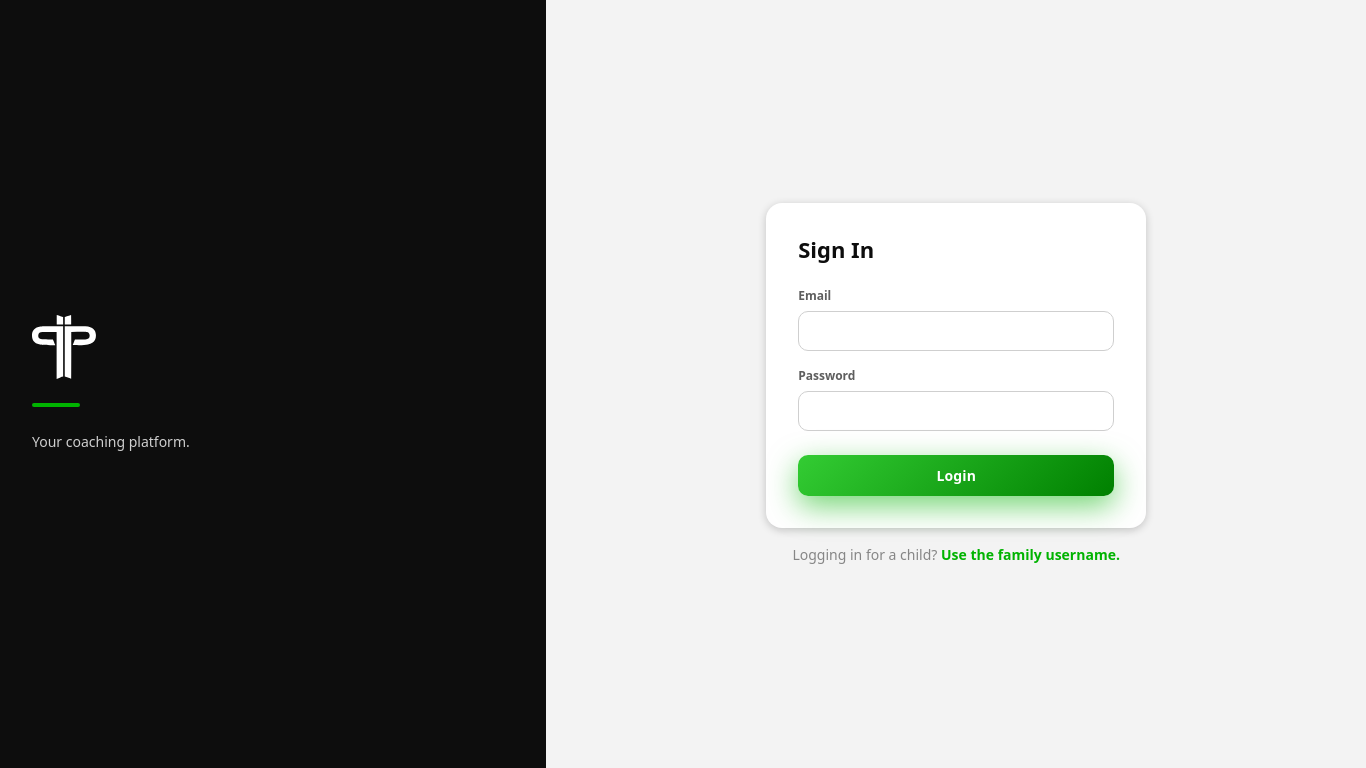
LoginPage › shows rate-limit message on 429
The image size is (1366, 768).
Type "a@b.com" into the field labelled "Email" at point(956, 330), box [798,310,1114,350]
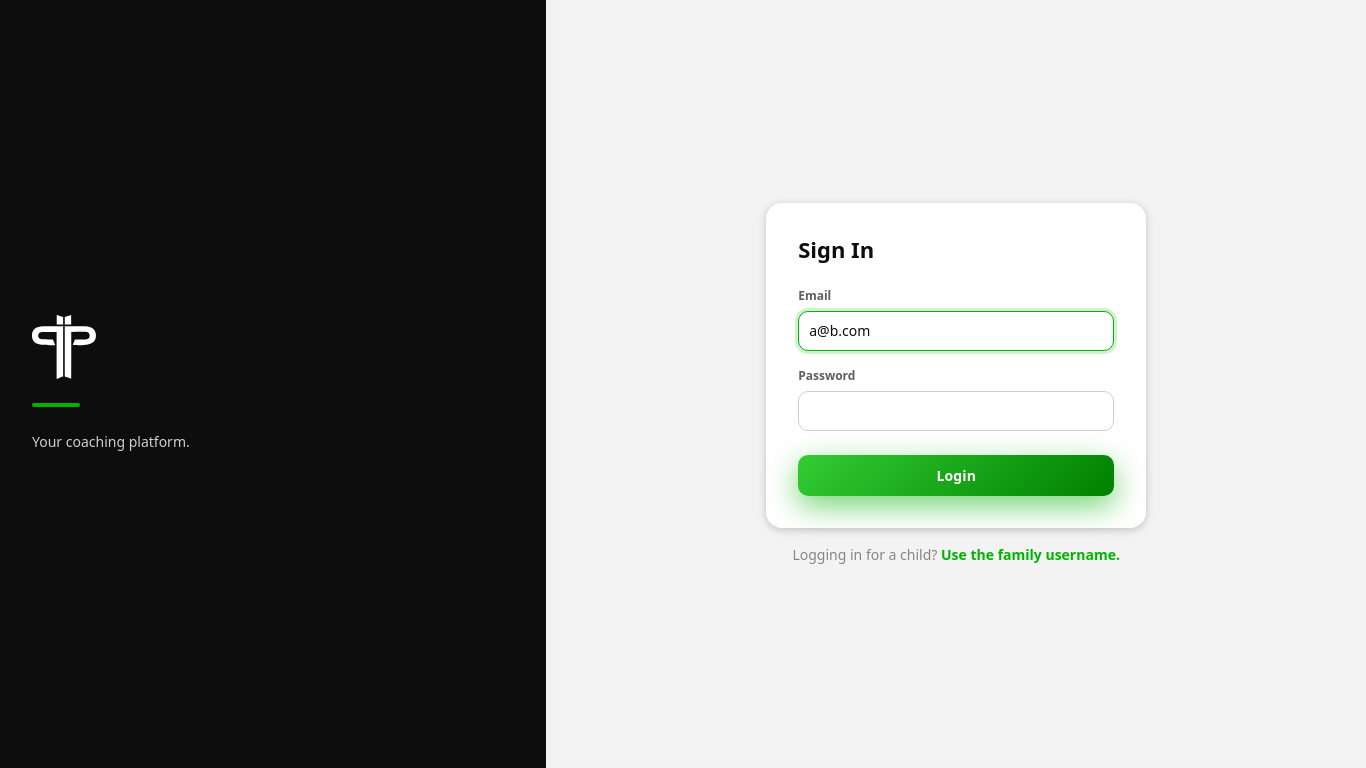
Type "pass123" into the password field labelled "Password" at point(956, 410), box [798,390,1114,430]
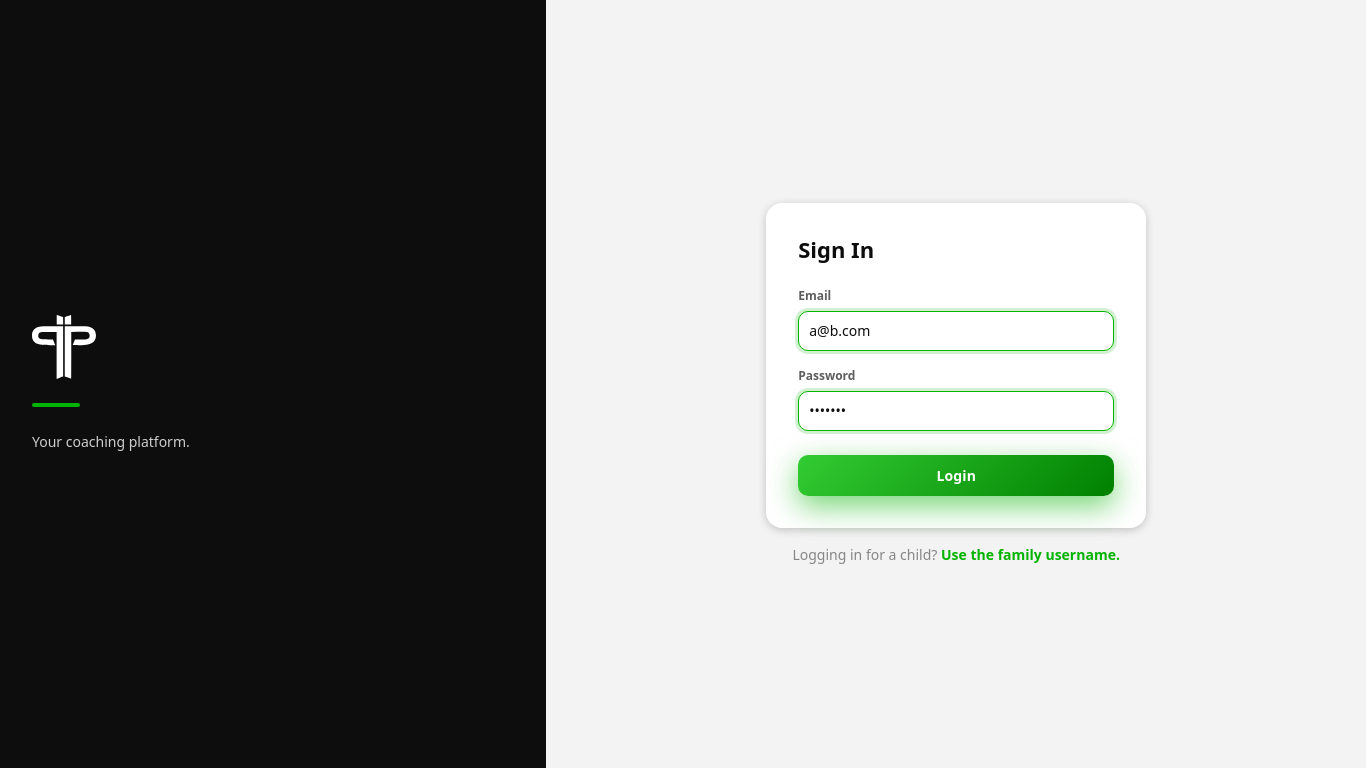
Click the button "Login" at point(956, 475), box [798,454,1114,496]
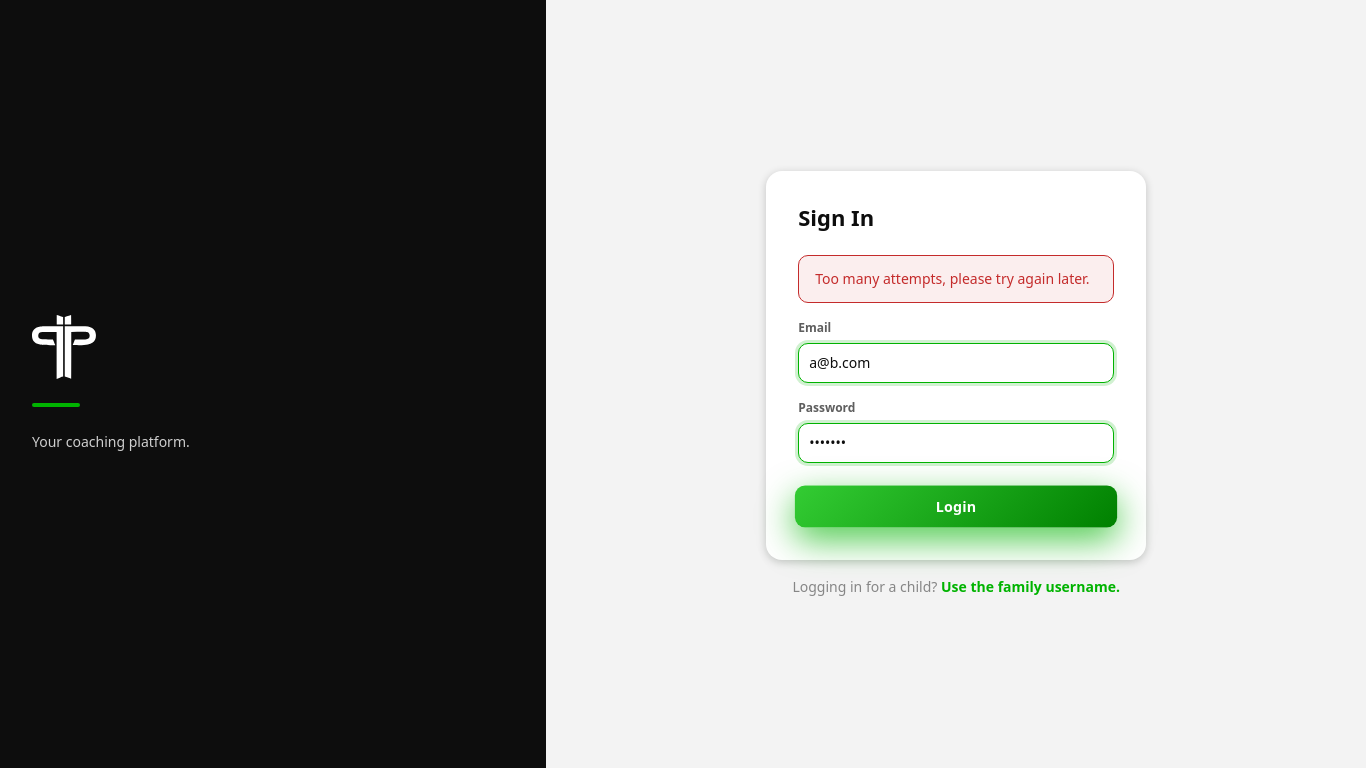
Result: the text "Too many attempts, please try again later." is shown at [798,254,1114,302]
